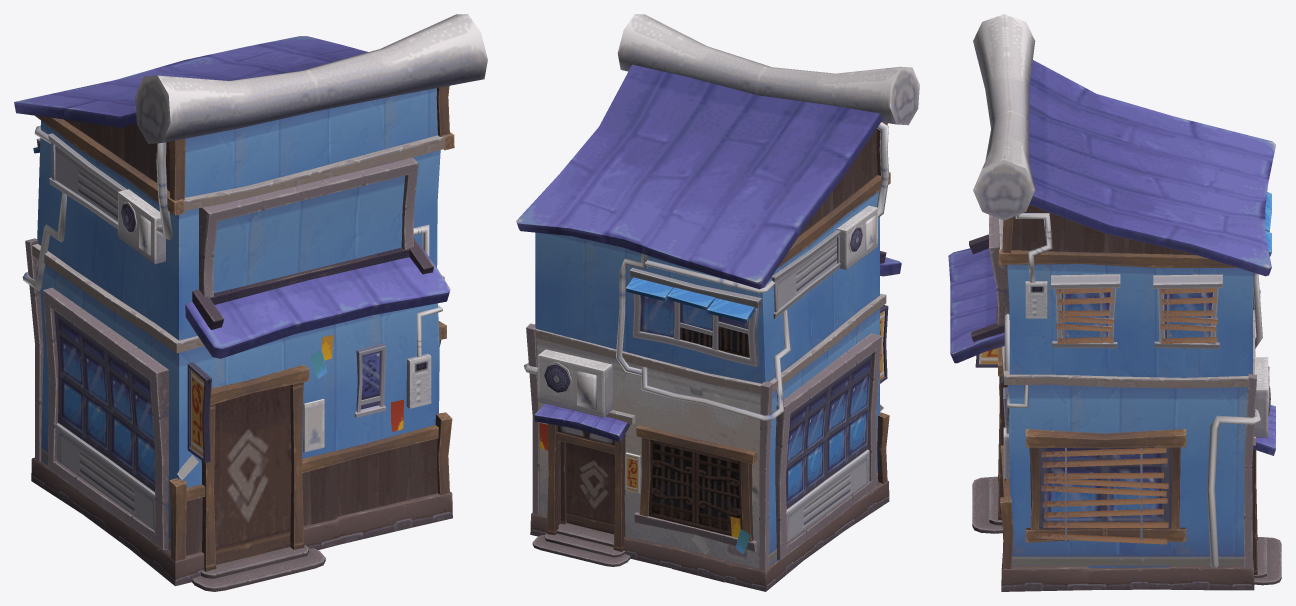
Rendered from hbxz_jz005_01.FBX.
The picture shows the model from 3 angles, left to right: view 1: azimuth 30°, elevation 25°; view 2: azimuth 150°, elevation 25°; view 3: azimuth 270°, elevation 25°; orthographic projection. The views are drawn at different scales.
Parts seen in each view (by area): view 1: hbxz_jz005_01; view 2: hbxz_jz005_01; view 3: hbxz_jz005_01.
Boxes of the visible parts, bbox=[...] form: hbxz_jz005_01: bbox=[14, 14, 487, 591]; hbxz_jz005_01: bbox=[516, 14, 919, 591]; hbxz_jz005_01: bbox=[948, 14, 1281, 591].
Bounding box in the file's own units: 3.91 × 5.91 × 3.94.
Materials: 2 (2 with a texture image).
